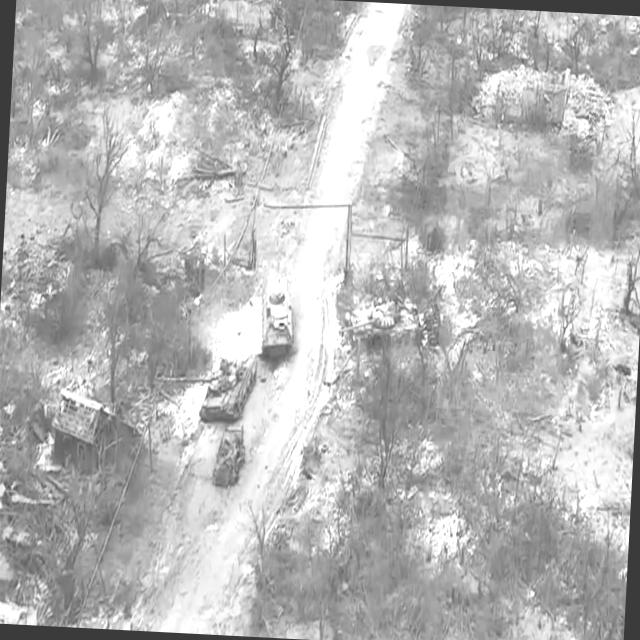APC: (258, 276, 299, 361)
Destroyed: (213, 423, 249, 490)
MBT: (160, 343, 260, 425), (338, 295, 425, 352)
